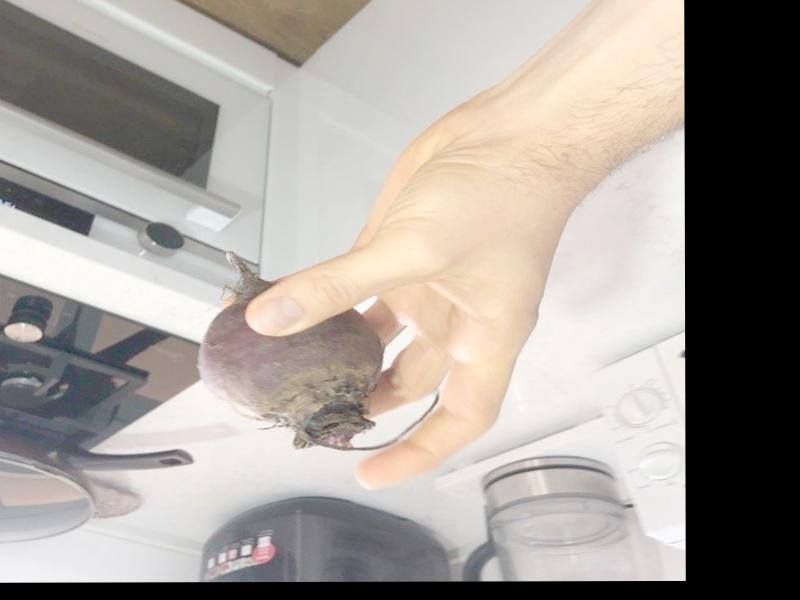Beet: (199, 251, 436, 450)
